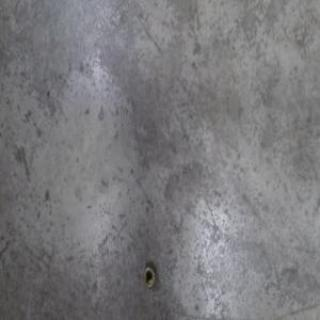Nuttrack_idkeyframe: (141, 263, 156, 290)
